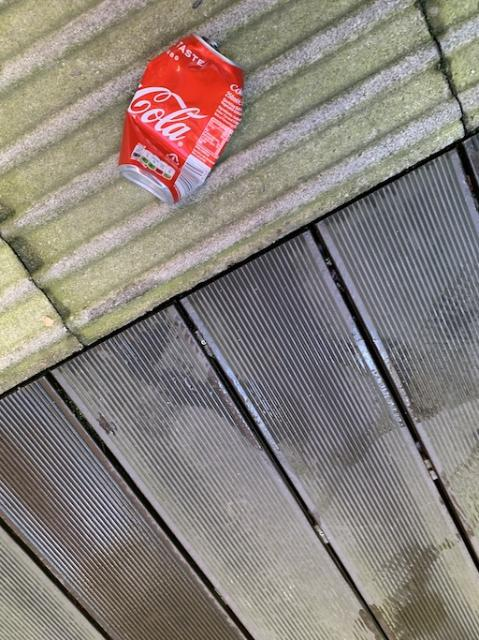metal: (1, 139, 476, 638)
